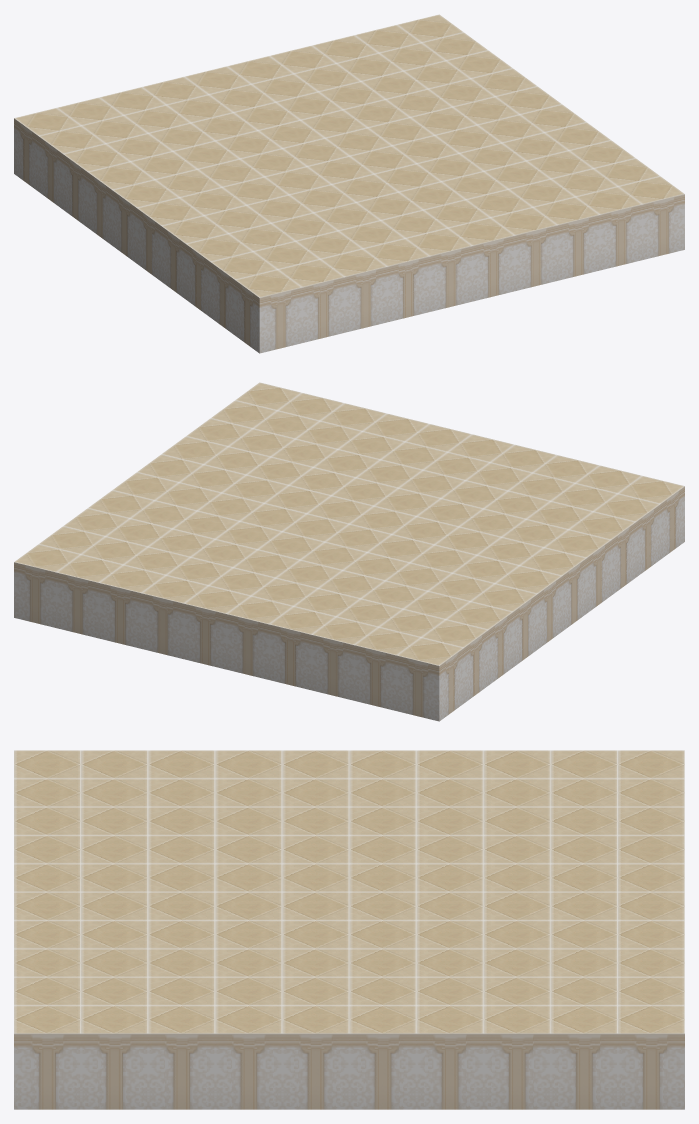
The model's file is StageNormal.fbx.
3 renders of one model, top to bottom at view 1: azimuth 30°, elevation 25°; view 2: azimuth 150°, elevation 25°; view 3: azimuth 270°, elevation 25°, orthographic. The views are drawn at different scales.
Visible parts, largest first — view 1: Terrain; view 2: Terrain; view 3: Terrain.
Part boxes in pixels (x1,y1,x2,y2): Terrain: (14, 14, 684, 353); Terrain: (14, 382, 684, 721); Terrain: (14, 750, 684, 1109).
Size of the model in its own units: 194 by 24.24 by 194.
1 material, 1 textured.
